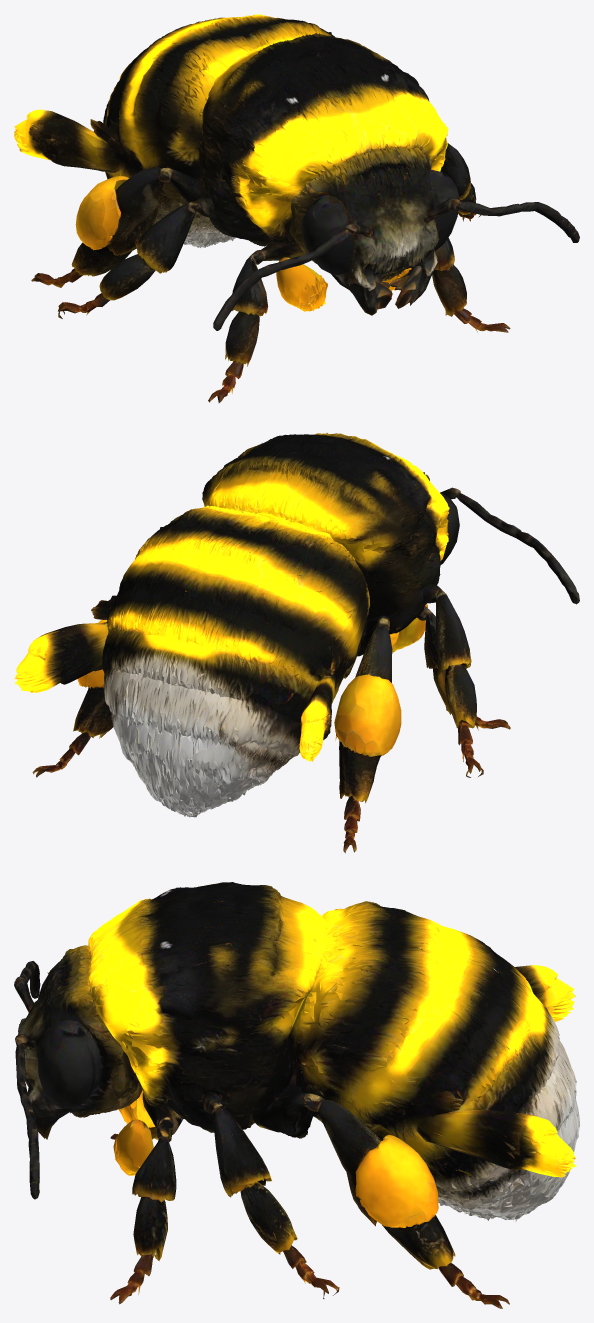
The model's file is bee-fast.glb.
3 renders of one model, top to bottom at view 1: azimuth 30°, elevation 25°; view 2: azimuth 150°, elevation 25°; view 3: azimuth 270°, elevation 25°, orthographic. The views are drawn at different scales.
Visible parts, largest first — view 1: Mesh_0; view 2: Mesh_0; view 3: Mesh_0.
Boxes of the visible parts, x1,y1,x2,y2 form: Mesh_0: (14, 14, 579, 402); Mesh_0: (14, 433, 579, 853); Mesh_0: (14, 882, 579, 1308).
Bounding box in the file's own units: 1.87 × 1.19 × 1.88.
Materials: 1 (1 with a texture image).
